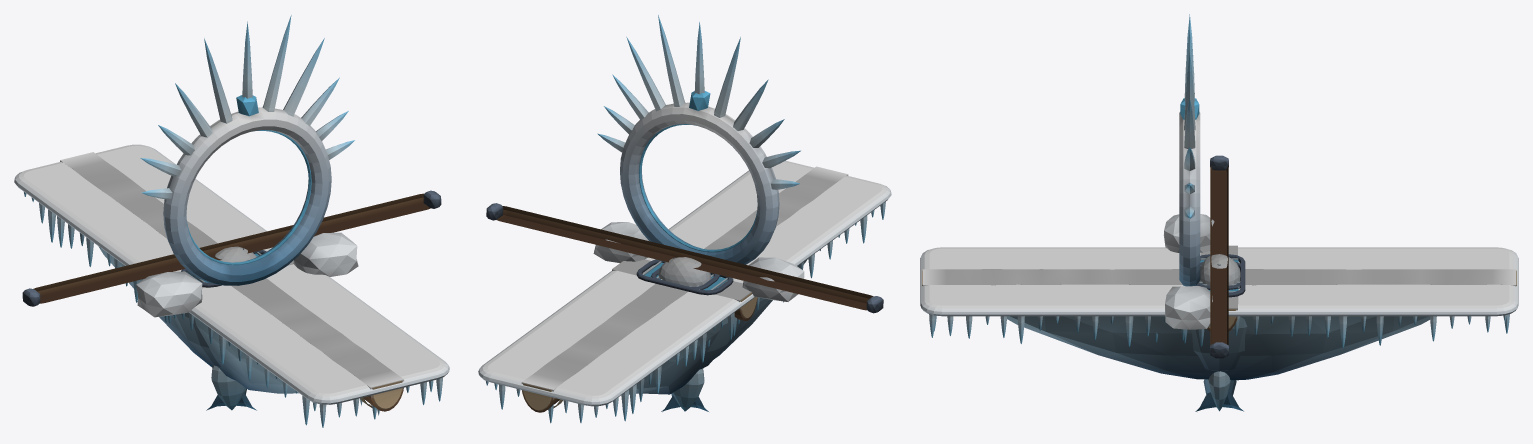
Rendered from glacier-2-CniT9v2u.glb.
3 views of the same model, side by side, from view 1: azimuth 30°, elevation 25°; view 2: azimuth 150°, elevation 25°; view 3: azimuth 270°, elevation 25° (orthographic). The views are drawn at different scales.
Parts seen in each view (by area): view 1: block_10x2x40#0, portal_#0, beam_2.5x1.5x40#0, mount_14.9#0, blade_3x10x1#0, disc_10x1.5#0, boulder_4x3#0; view 2: block_10x2x40#0, portal_#0, beam_2.5x1.5x40#0, mount_14.9#0, boulder_4x3#0, beam_10x2x2.5#0, jetVent_6x3#0, blade_3x10x1#0, disc_10x1.5#0; view 3: block_10x2x40#0, beam_2.5x1.5x40#0, portal_#0, mount_14.9#0, disc_10x1.5#0, boulder_4x3#0, blade_3x10x1#0.
Boxes of the visible parts, <box> form: block_10x2x40#0: <box>14,144,449,427</box>; portal_#0: <box>136,15,358,317</box>; beam_2.5x1.5x40#0: <box>60,152,403,415</box>; mount_14.9#0: <box>22,190,441,306</box>; blade_3x10x1#0: <box>211,365,246,410</box>; disc_10x1.5#0: <box>168,312,220,366</box>; boulder_4x3#0: <box>215,246,256,262</box>; block_10x2x40#0: <box>478,160,891,423</box>; portal_#0: <box>593,15,804,301</box>; beam_2.5x1.5x40#0: <box>521,166,848,412</box>; mount_14.9#0: <box>486,203,883,313</box>; boulder_4x3#0: <box>658,257,711,286</box>; beam_10x2x2.5#0: <box>612,259,757,320</box>; jetVent_6x3#0: <box>636,259,733,295</box>; blade_3x10x1#0: <box>672,368,704,411</box>; disc_10x1.5#0: <box>697,317,741,369</box>; block_10x2x40#0: <box>920,247,1518,380</box>; beam_2.5x1.5x40#0: <box>922,269,1516,286</box>; portal_#0: <box>1163,14,1214,329</box>; mount_14.9#0: <box>1210,155,1228,358</box>; disc_10x1.5#0: <box>1183,316,1247,371</box>; boulder_4x3#0: <box>1199,254,1240,285</box>; blade_3x10x1#0: <box>1208,371,1230,411</box>.
Bounding box in the file's own units: 30.7 × 29.01 × 40.36.
